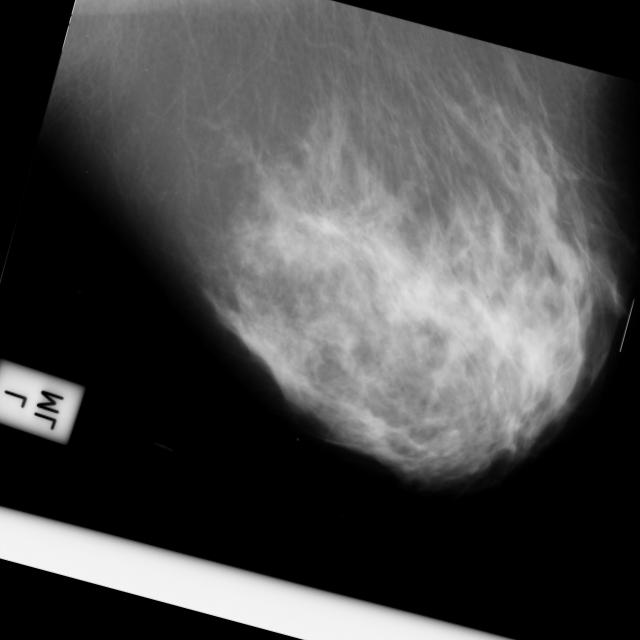SPIC: (0, 172, 348, 573)
